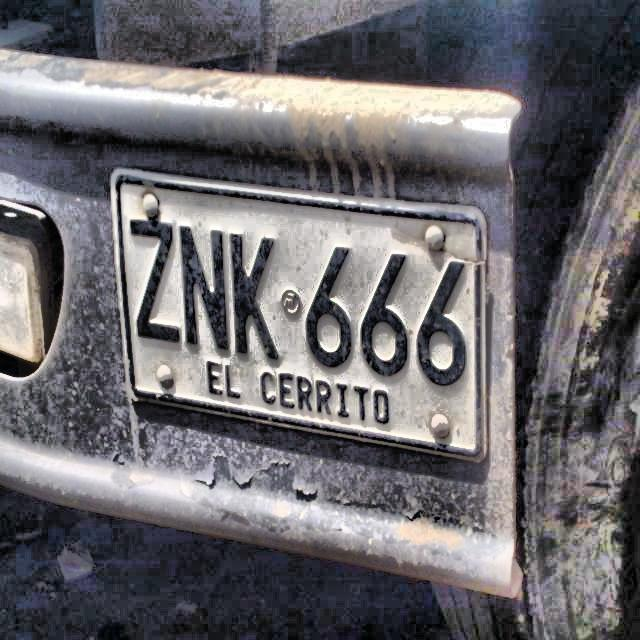plate: (118, 175, 480, 455)
